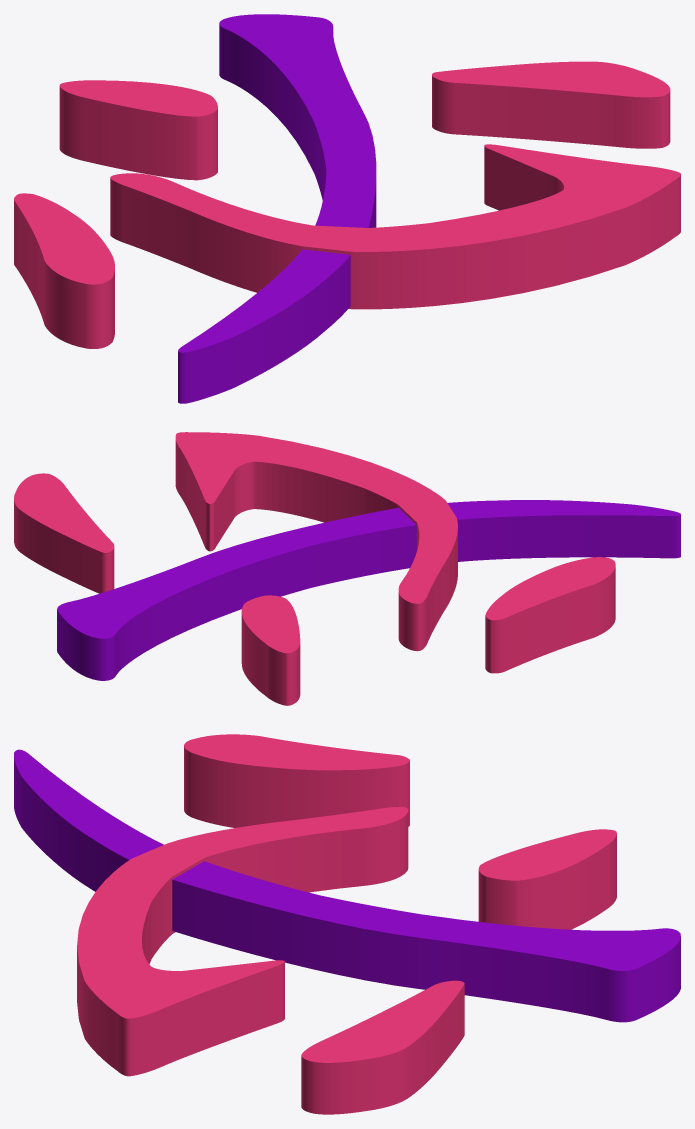
The model's file is hanzi133.fbx.
3 renders of one model, top to bottom at view 1: azimuth 30°, elevation 25°; view 2: azimuth 150°, elevation 25°; view 3: azimuth 270°, elevation 25°, orthographic. The views are drawn at different scales.
Visible parts, largest first — view 1: Curve.001, Curve.003, Curve.004, Curve.002, Curve; view 2: Curve.003, Curve.001, Curve, Curve.004, Curve.002; view 3: Curve.003, Curve.001, Curve, Curve.004, Curve.002.
Part boxes in pixels (bbox=[...]): Curve.001: bbox=[110, 144, 680, 309]; Curve.003: bbox=[178, 14, 376, 403]; Curve.004: bbox=[432, 61, 670, 148]; Curve.002: bbox=[59, 80, 217, 180]; Curve: bbox=[14, 193, 114, 348]; Curve.003: bbox=[57, 500, 680, 680]; Curve.001: bbox=[175, 432, 457, 651]; Curve: bbox=[485, 557, 615, 673]; Curve.004: bbox=[14, 473, 114, 593]; Curve.002: bbox=[241, 595, 300, 705]; Curve.003: bbox=[14, 749, 680, 1022]; Curve.001: bbox=[77, 807, 408, 1076]; Curve: bbox=[184, 734, 409, 827]; Curve.004: bbox=[301, 980, 464, 1114]; Curve.002: bbox=[478, 829, 616, 929].
Size of the model in its own units: 23.52 by 20.59 by 2.2.
